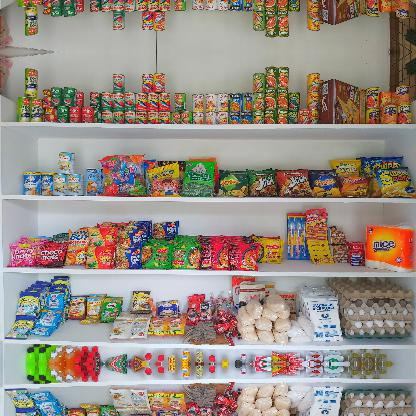Koko-Krunch: (320, 78, 366, 124), (320, 0, 366, 26)
